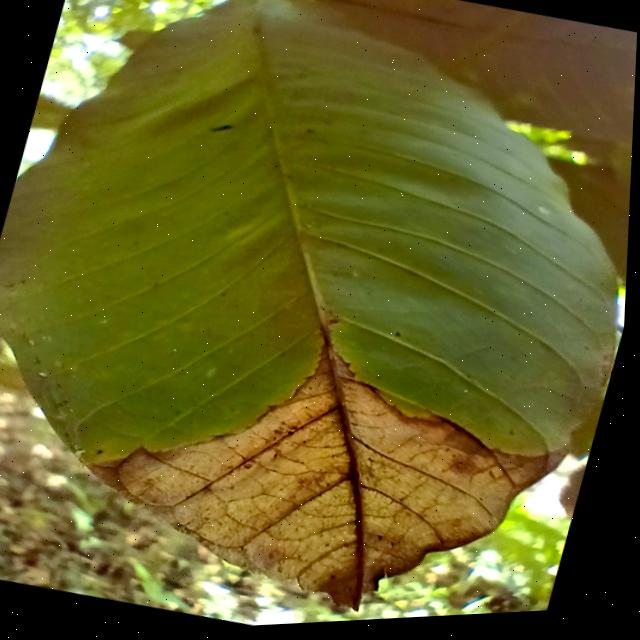Colletotrichum: (100, 449, 108, 456)
Leaf-Blight: (67, 292, 591, 636)
